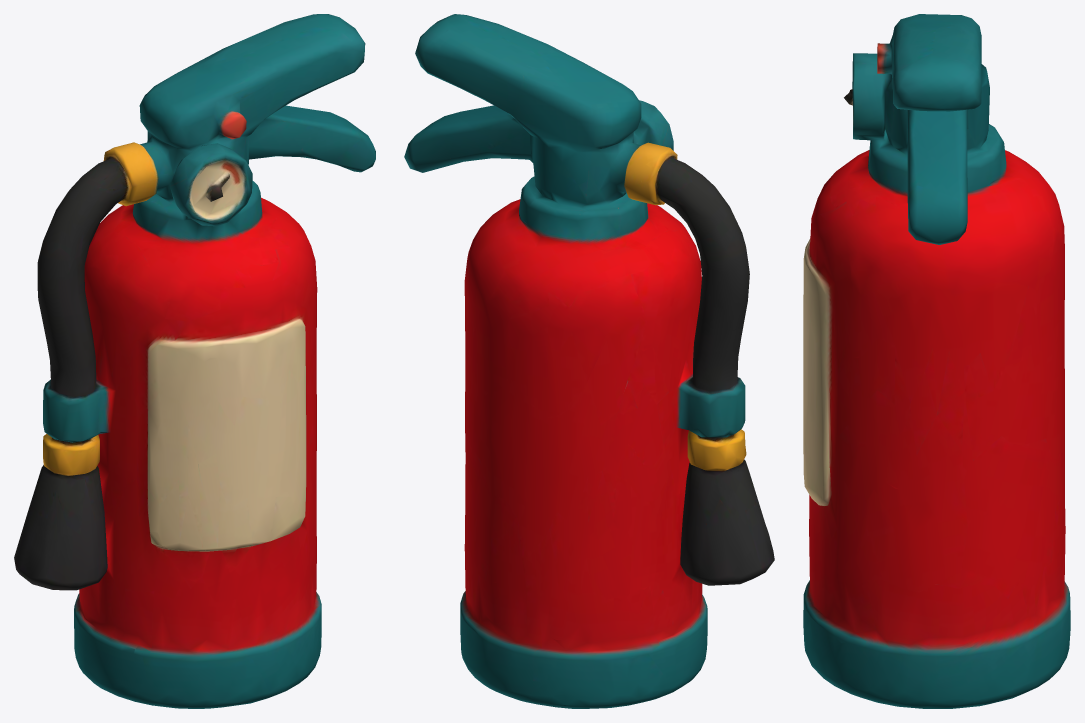
The model's file is factory-fire-extinguisher.glb.
3 views of the same model, side by side, from view 1: azimuth 30°, elevation 25°; view 2: azimuth 150°, elevation 25°; view 3: azimuth 270°, elevation 25° (orthographic). The views are drawn at different scales.
Parts seen in each view (by area): view 1: factory-fire-extinguisher; view 2: factory-fire-extinguisher; view 3: factory-fire-extinguisher.
Boxes of the visible parts, x1,y1,x2,y2 form: factory-fire-extinguisher: (14,14,375,708); factory-fire-extinguisher: (404,14,774,708); factory-fire-extinguisher: (803,14,1070,708).
Size of the model in its own units: 0.661 by 1.1 by 0.4.
1 material, 1 textured.
